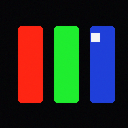1 square: (91, 33, 99, 41)
